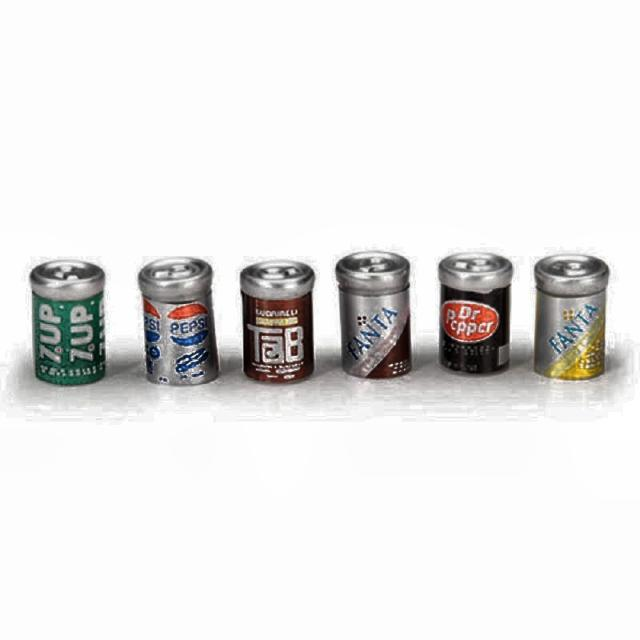Cans: (138, 252, 222, 393), (234, 255, 318, 386), (27, 259, 108, 390), (438, 249, 512, 379), (336, 252, 411, 378), (535, 254, 607, 376)
